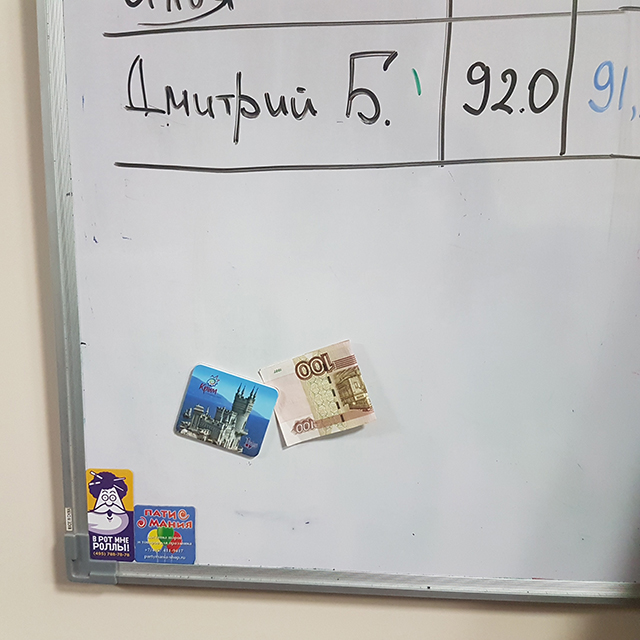banknotes: (259, 340, 377, 446)
